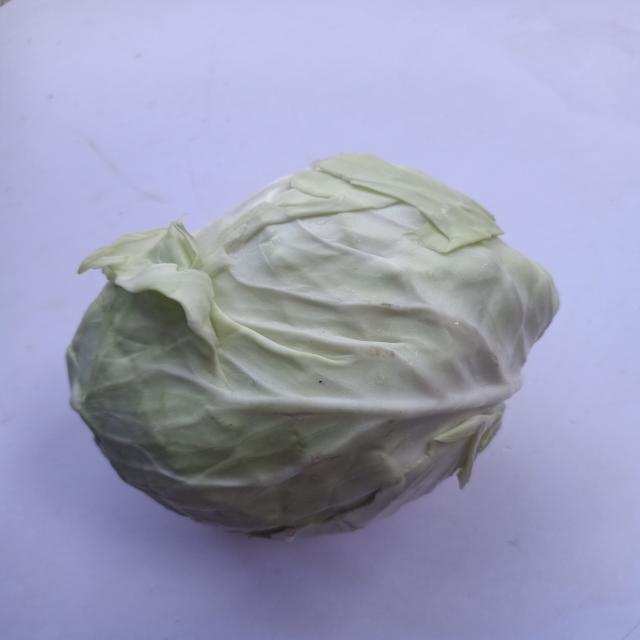Cabbage: (54, 151, 576, 553)
